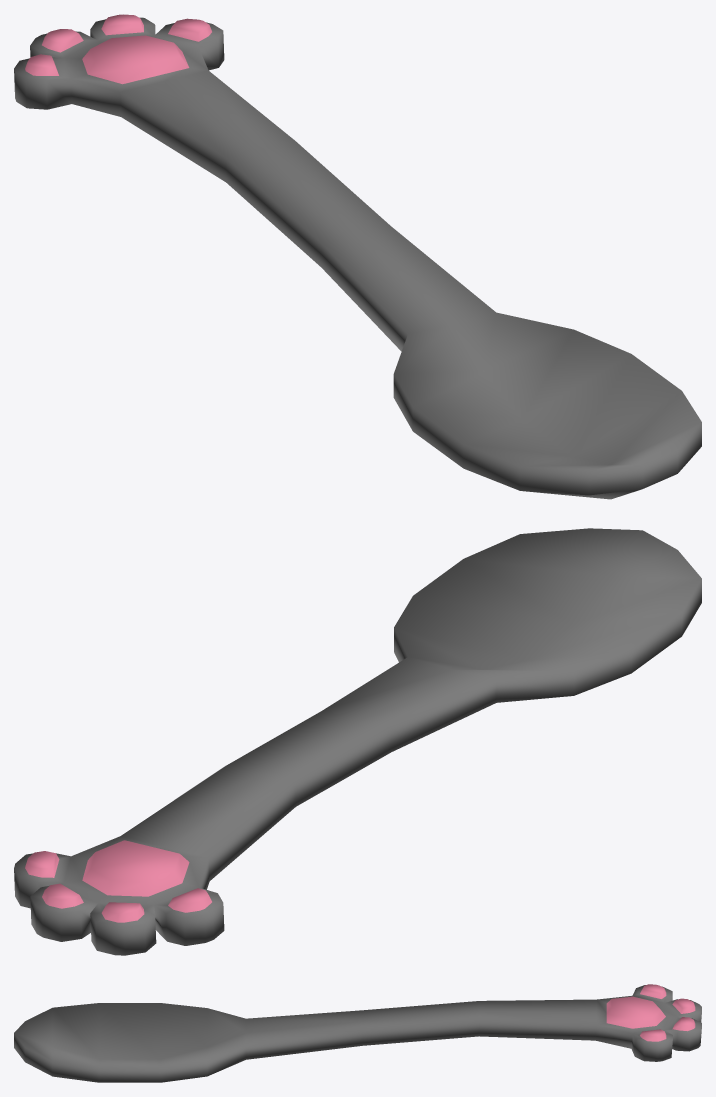
The model's file is spoon.fbx.
The picture shows the model from 3 angles, top to bottom: view 1: azimuth 30°, elevation 25°; view 2: azimuth 150°, elevation 25°; view 3: azimuth 270°, elevation 25°; orthographic projection. The views are drawn at different scales.
Parts seen in each view (by area): view 1: spoon; view 2: spoon; view 3: spoon.
Part boxes in pixels (bbox=[...]): spoon: bbox=[14, 14, 701, 499]; spoon: bbox=[14, 528, 701, 955]; spoon: bbox=[14, 984, 701, 1082].
Bounding box in the file's own units: 0.0403 × 0.0194 × 0.1804.
